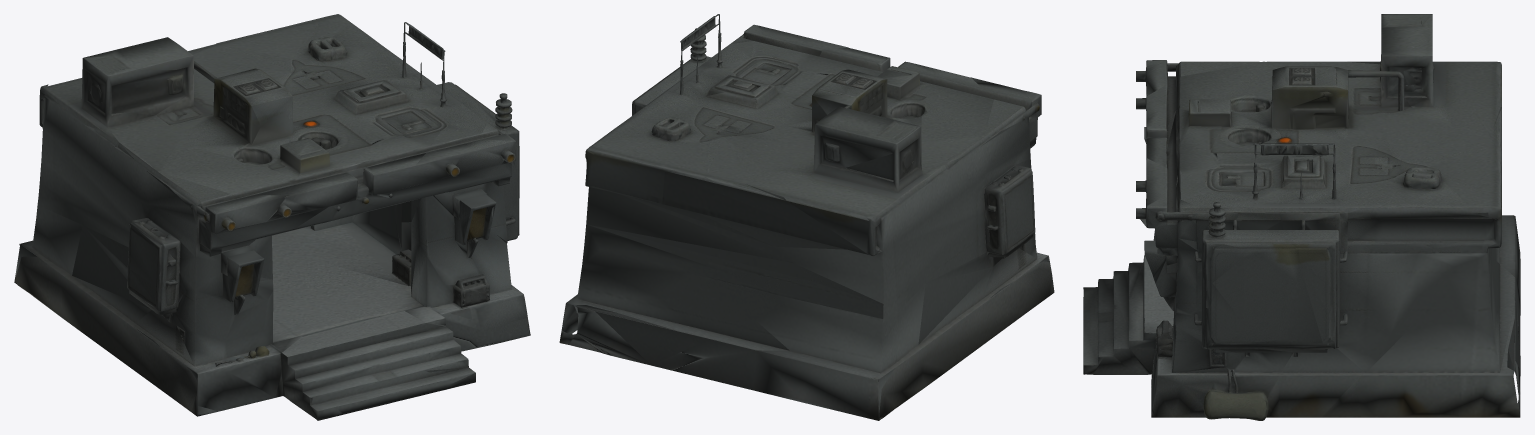
Rendered from Bunker.glb.
3 views of the same model, side by side, from view 1: azimuth 30°, elevation 25°; view 2: azimuth 150°, elevation 25°; view 3: azimuth 270°, elevation 25° (orthographic). The views are drawn at different scales.
Parts seen in each view (by area): view 1: output_unwrapped; view 2: output_unwrapped; view 3: output_unwrapped.
Part boxes in pixels (x1,y1,x2,y2): output_unwrapped: (14, 14, 530, 420); output_unwrapped: (559, 14, 1054, 420); output_unwrapped: (1083, 14, 1520, 420).
Bounding box in the file's own units: 0.7378 × 0.5 × 0.7695.
Materials: 1 (1 with a texture image).
